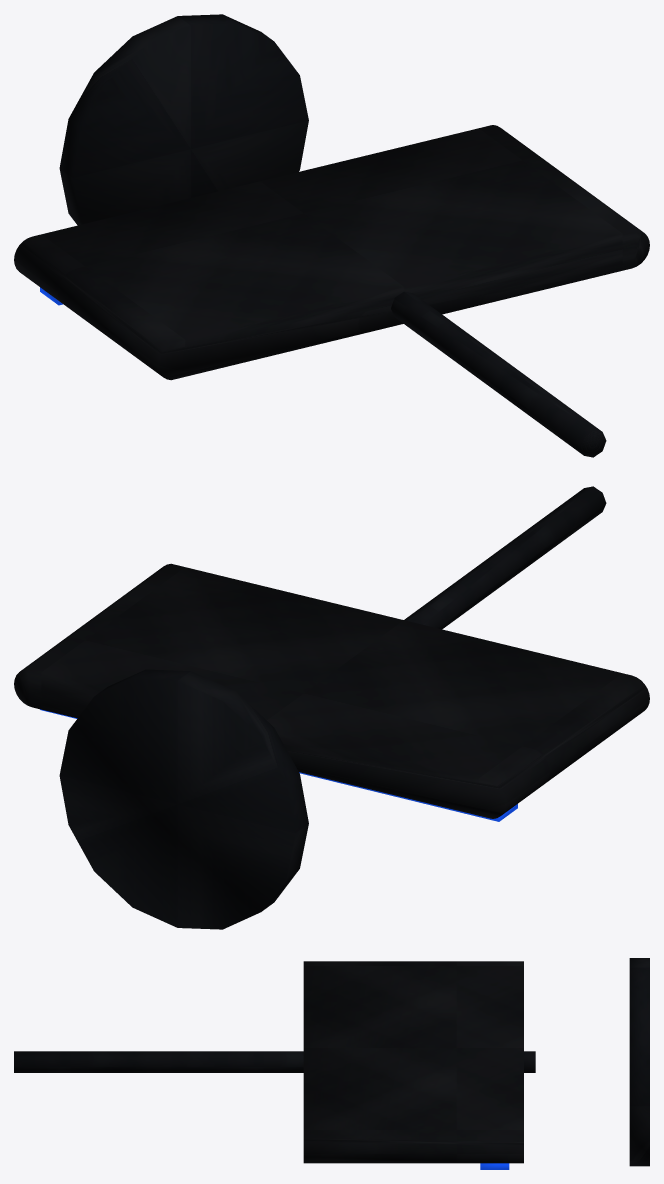
Rendered from ARCH_SIGNAGE_STANDING_001.glb.
The picture shows the model from 3 angles, top to bottom: view 1: azimuth 30°, elevation 25°; view 2: azimuth 150°, elevation 25°; view 3: azimuth 270°, elevation 25°; orthographic projection. The views are drawn at different scales.
Parts seen in each view (by area): view 1: sign_panel_000, base_003, post_002; view 2: sign_panel_000, base_003, post_002; view 3: sign_panel_000, post_002, base_003.
Part boxes in pixels (box(x1,y1,x2,y2)): sign_panel_000: box(14, 125, 649, 380); base_003: box(59, 14, 308, 225); post_002: box(247, 180, 606, 457); sign_panel_000: box(14, 563, 649, 818); base_003: box(59, 669, 308, 929); post_002: box(404, 486, 606, 629); sign_panel_000: box(303, 961, 523, 1163); post_002: box(14, 1051, 535, 1072); base_003: box(629, 958, 649, 1166).
Bounding box in the file's own units: 0.75 × 0.36 × 1.1.
3 materials, 3 textured.
